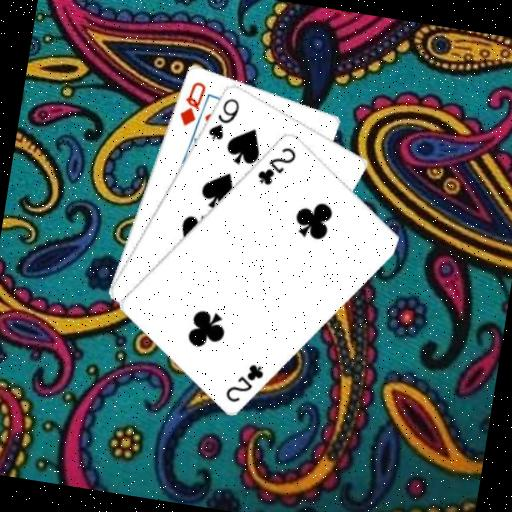2C: (252, 139, 299, 190), (220, 356, 267, 407)
9S: (203, 91, 242, 144)
QD: (174, 75, 208, 129)
